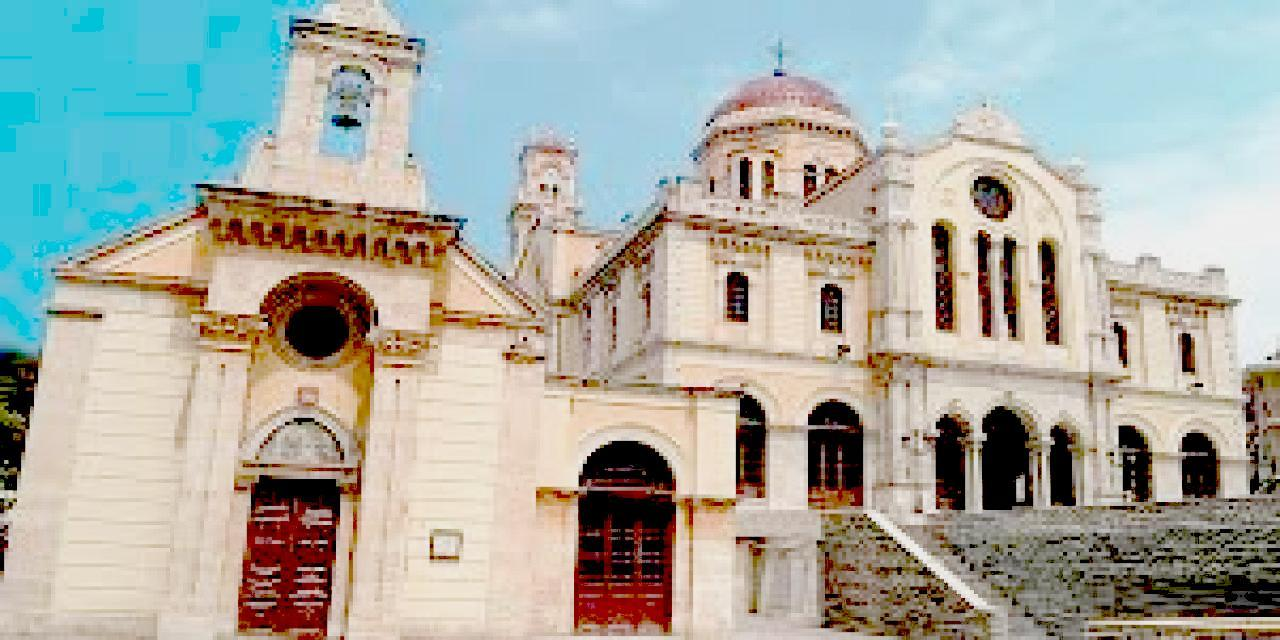Agios Minas: (2, 1, 1256, 640)
